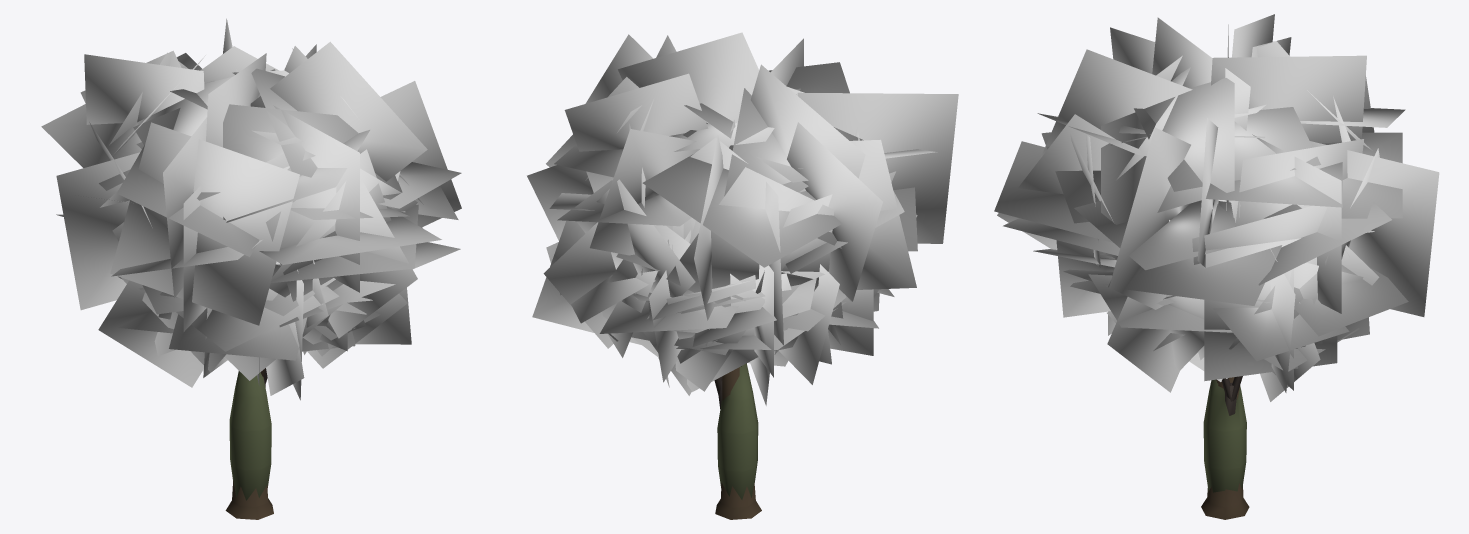
Rendered from arboles.glb.
The picture shows the model from 3 angles, left to right: view 1: azimuth 30°, elevation 25°; view 2: azimuth 150°, elevation 25°; view 3: azimuth 270°, elevation 25°; orthographic projection. The views are drawn at different scales.
Parts seen in each view (by area): view 1: copa_tipa, copa_fresno, copa_jacaranda, tronco_palo, copa_palo, tronco_tipa; view 2: copa_tipa, copa_jacaranda, copa_fresno, tronco_palo, copa_palo, tronco_tipa; view 3: copa_tipa, copa_jacaranda, tronco_palo, copa_fresno, copa_palo, tronco_tipa.
Part boxes in pixels (x1=…): copa_tipa: x1=41, y1=18, x2=461, y2=338; copa_fresno: x1=98, y1=278, x2=411, y2=395; copa_jacaranda: x1=56, y1=214, x2=460, y2=400; tronco_palo: x1=229, y1=371, x2=271, y2=500; copa_palo: x1=112, y1=222, x2=407, y2=377; tronco_tipa: x1=225, y1=377, x2=273, y2=519; copa_tipa: x1=527, y1=32, x2=958, y2=345; copa_jacaranda: x1=532, y1=209, x2=917, y2=391; copa_fresno: x1=608, y1=219, x2=894, y2=405; tronco_palo: x1=717, y1=363, x2=758, y2=499; copa_palo: x1=630, y1=220, x2=845, y2=395; tronco_tipa: x1=715, y1=367, x2=761, y2=519; copa_tipa: x1=994, y1=14, x2=1439, y2=316; copa_jacaranda: x1=1033, y1=220, x2=1408, y2=392; tronco_palo: x1=1203, y1=379, x2=1246, y2=492; copa_fresno: x1=1070, y1=200, x2=1359, y2=401; copa_palo: x1=1063, y1=200, x2=1379, y2=360; tronco_tipa: x1=1201, y1=377, x2=1249, y2=519.
Size of the model in its own units: 9.11 by 10.74 by 9.16.
